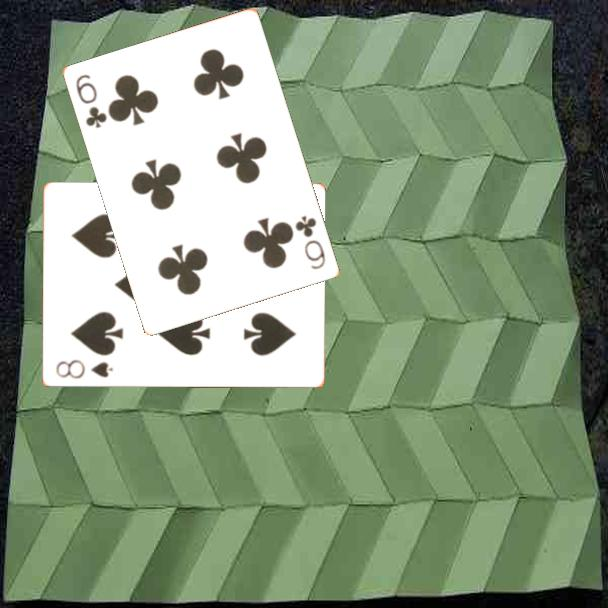c06: (292, 212, 329, 272), (73, 71, 110, 131)
s08: (52, 357, 115, 382)
